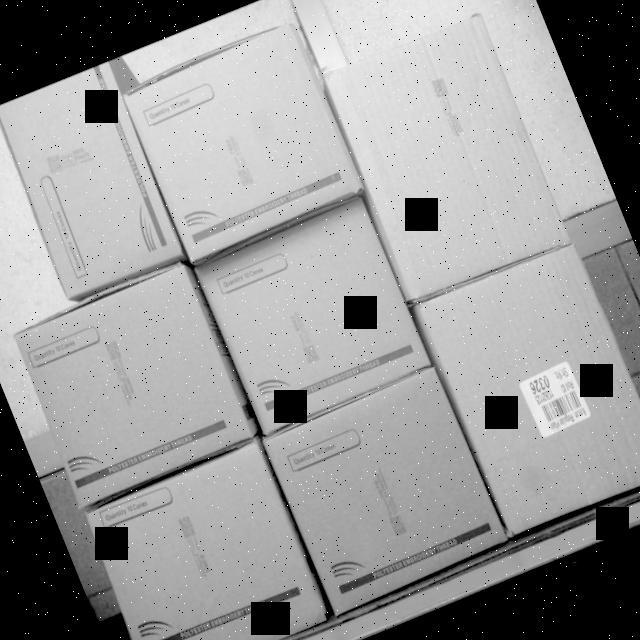box: (316, 9, 570, 303), (417, 242, 640, 540), (11, 261, 256, 508), (264, 371, 507, 610), (122, 20, 365, 258), (195, 200, 427, 429), (84, 445, 332, 640), (0, 62, 182, 301)
